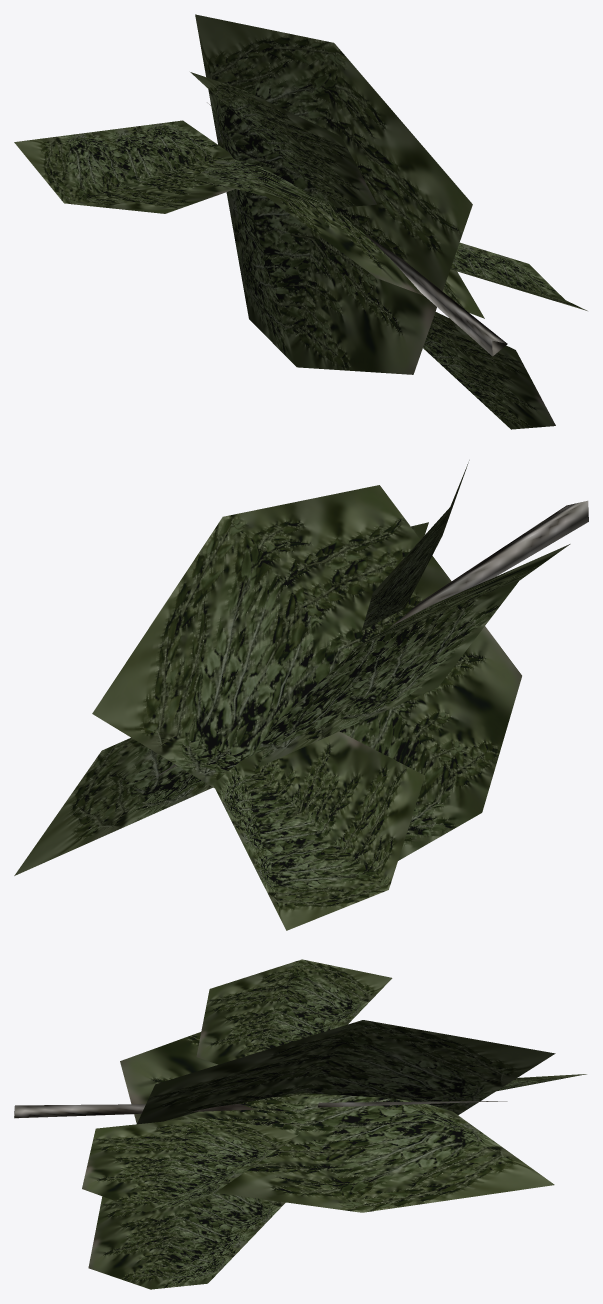
File: MEP_Birch_01_a_LOD_03.fbx
The picture shows the model from 3 angles, top to bottom: view 1: azimuth 30°, elevation 25°; view 2: azimuth 150°, elevation 25°; view 3: azimuth 270°, elevation 25°; orthographic projection. The views are drawn at different scales.
Parts seen in each view (by area): view 1: MEP_Birch_01_LOD_03; view 2: MEP_Birch_01_LOD_03; view 3: MEP_Birch_01_LOD_03.
Part boxes in pixels (x1=…): MEP_Birch_01_LOD_03: x1=14, y1=14, x2=587, y2=429; MEP_Birch_01_LOD_03: x1=14, y1=460, x2=588, y2=930; MEP_Birch_01_LOD_03: x1=14, y1=959, x2=586, y2=1289.
Bounding box in the file's own units: 5.72 × 5.85 × 11.74.
